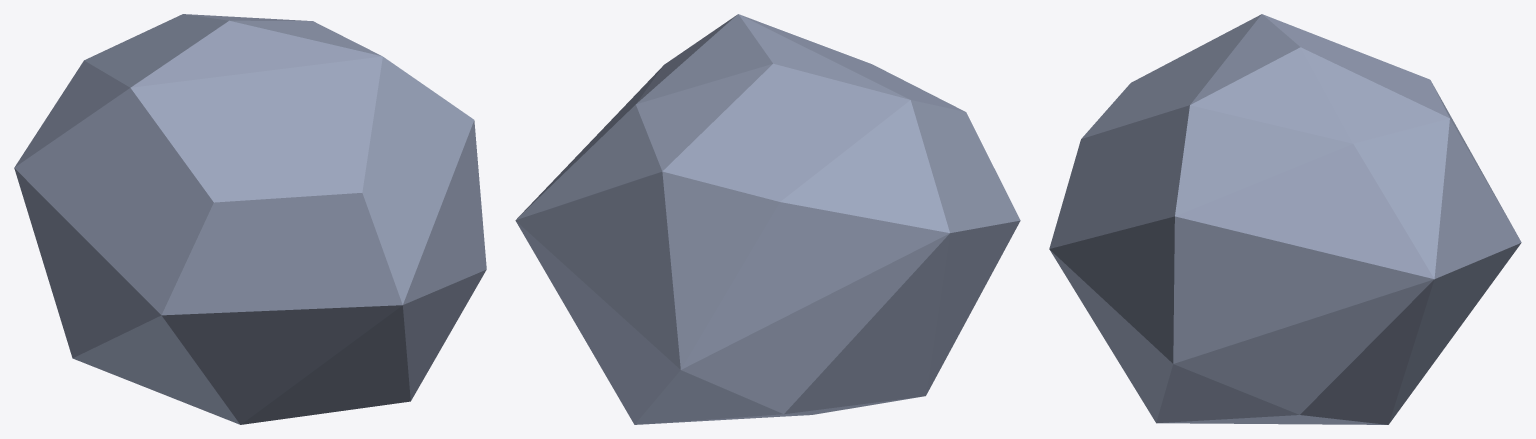
Rendered from Stone3.fbx.
The picture shows the model from 3 angles, left to right: view 1: azimuth 30°, elevation 25°; view 2: azimuth 150°, elevation 25°; view 3: azimuth 270°, elevation 25°; orthographic projection. The views are drawn at different scales.
Visible parts, largest first — view 1: Cube.001; view 2: Cube.001; view 3: Cube.001.
Part boxes in pixels (box(x1,y1,x2,y2)): Cube.001: box(14, 14, 486, 424); Cube.001: box(515, 14, 1020, 424); Cube.001: box(1049, 14, 1521, 424).
Bounding box in the file's own units: 116 × 102 × 130.
